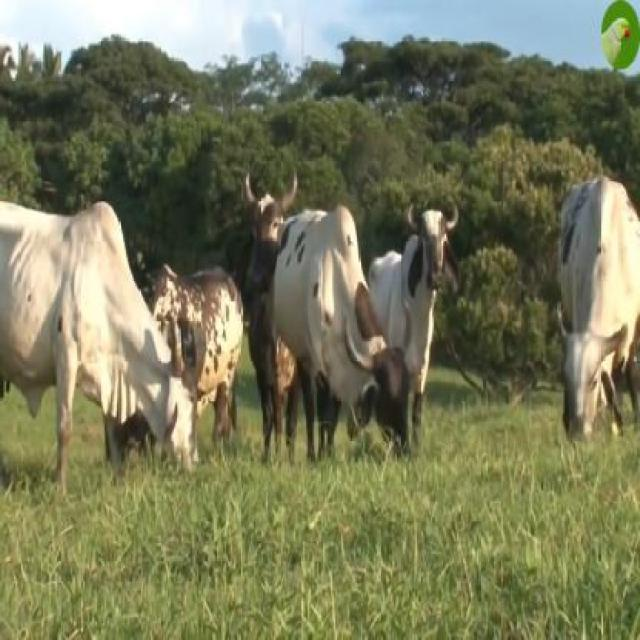Cow: (368, 196, 462, 442)
